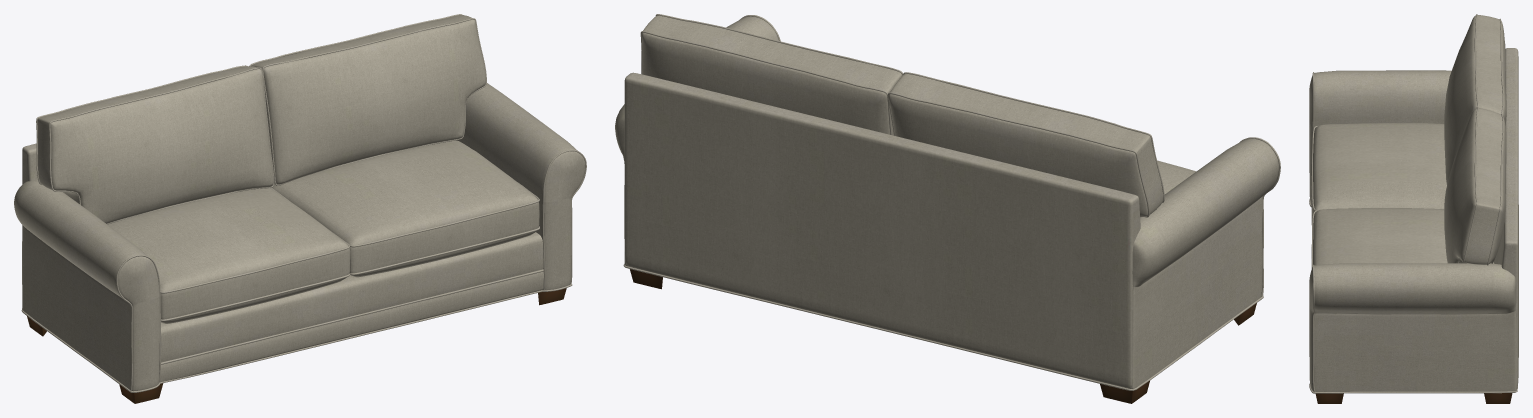
File: sofa_B072FVHNS7.glb
The picture shows the model from 3 angles, left to right: view 1: azimuth 30°, elevation 25°; view 2: azimuth 150°, elevation 25°; view 3: azimuth 270°, elevation 25°; orthographic projection. The views are drawn at different scales.
Parts seen in each view (by area): view 1: RootNode; view 2: RootNode; view 3: RootNode.
Boxes of the visible parts, left/top/right/bottom form: RootNode: left=14, top=14, right=586, bottom=403; RootNode: left=615, top=14, right=1280, bottom=403; RootNode: left=1309, top=14, right=1518, bottom=403.
Bounding box in the file's own units: 2.15 × 0.962 × 0.9014.
1 material, 1 textured.
